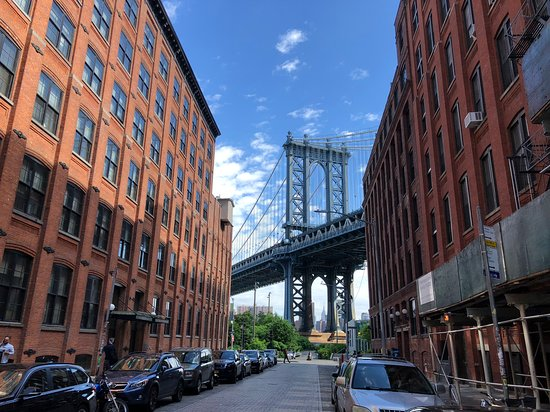bridge: (231, 131, 367, 339)
